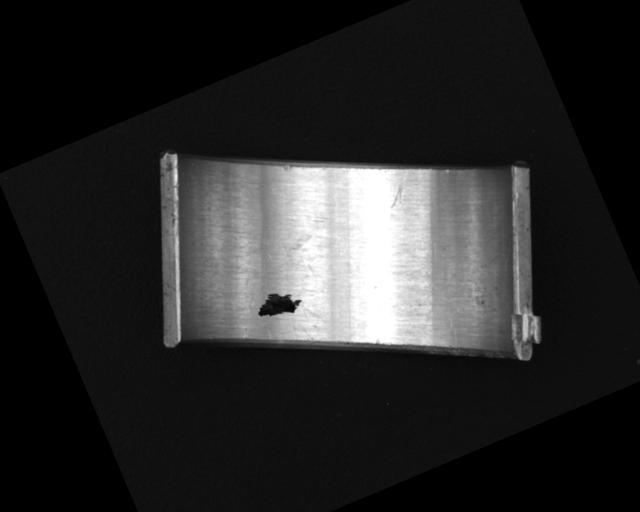blot: (256, 230, 324, 283), (251, 282, 306, 328)
bruise: (372, 335, 383, 346), (280, 162, 291, 173)
nick: (378, 166, 419, 209)
